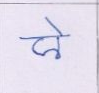o_matra: (53, 22, 64, 59)
